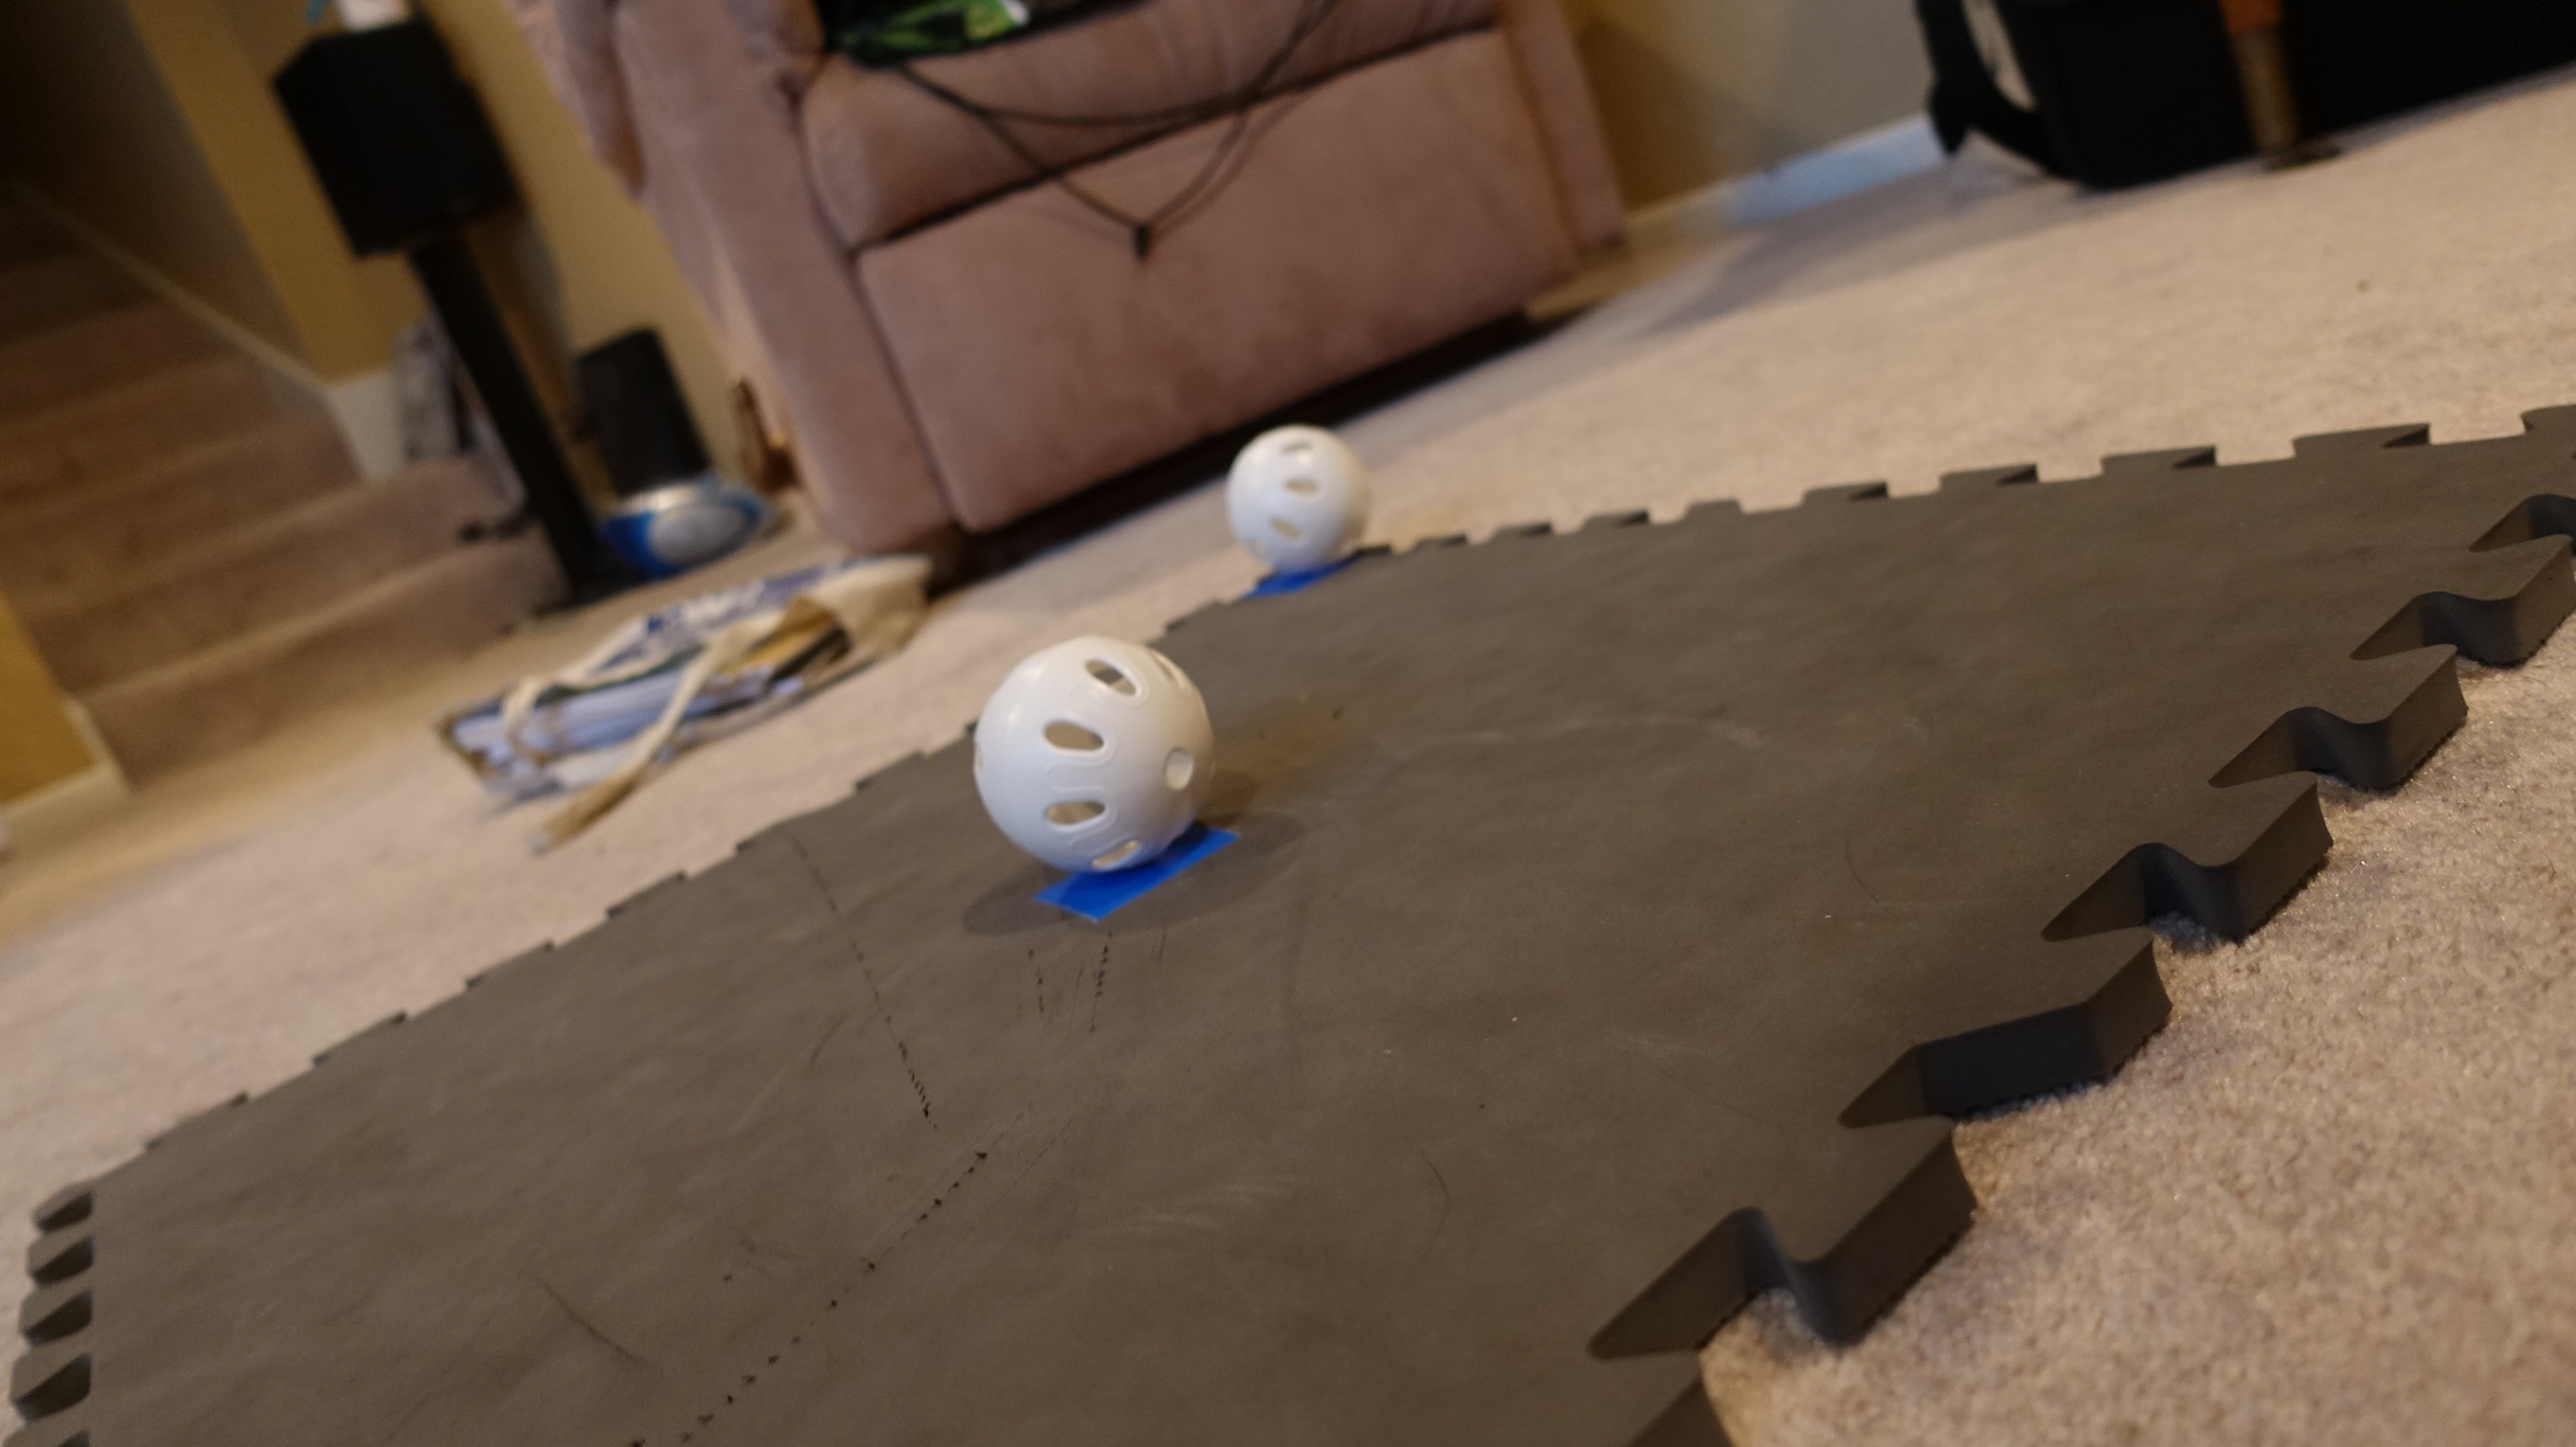silver: (973, 633, 1215, 877), (1223, 425, 1371, 575)
